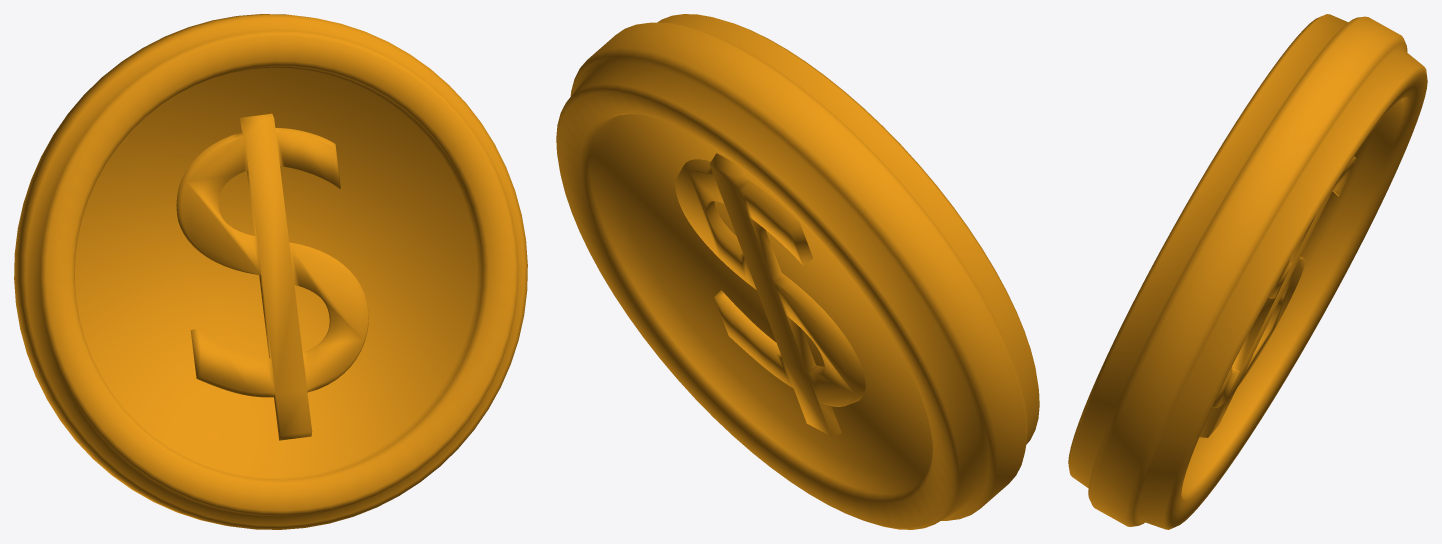
File: coin.glb
3 views of the same model, side by side, from view 1: azimuth 30°, elevation 25°; view 2: azimuth 150°, elevation 25°; view 3: azimuth 270°, elevation 25° (orthographic). The views are drawn at different scales.
Visible parts, largest first — view 1: Coin; view 2: Coin; view 3: Coin.
Part boxes in pixels (box(x1,y1,x2,y2)): Coin: box(14, 14, 527, 529); Coin: box(556, 14, 1039, 529); Coin: box(1068, 14, 1427, 529).
Size of the model in its own units: 1.93 by 1.87 by 1.26.
